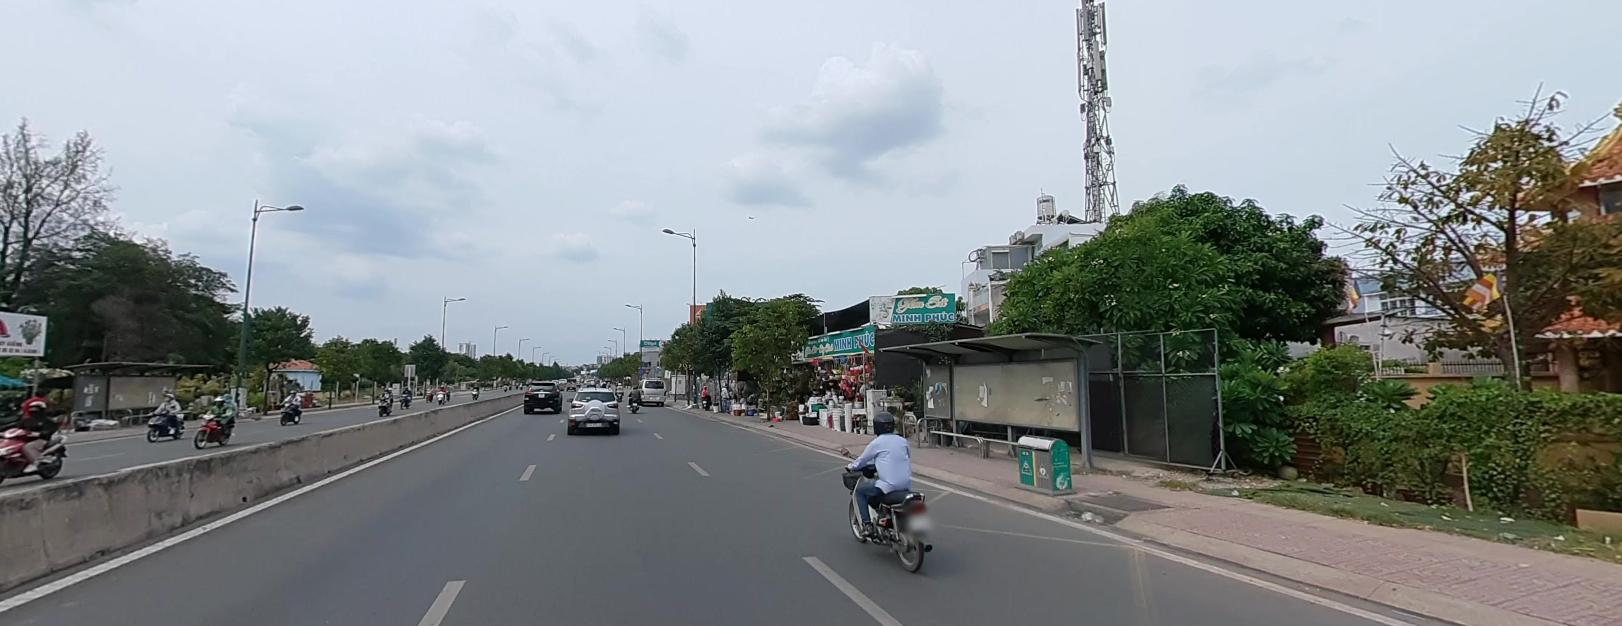Cam dung va do: (637, 365, 644, 372)
